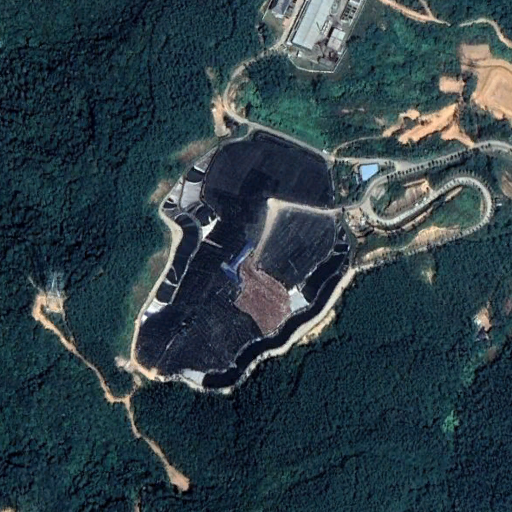lf: (133, 127, 357, 386)
